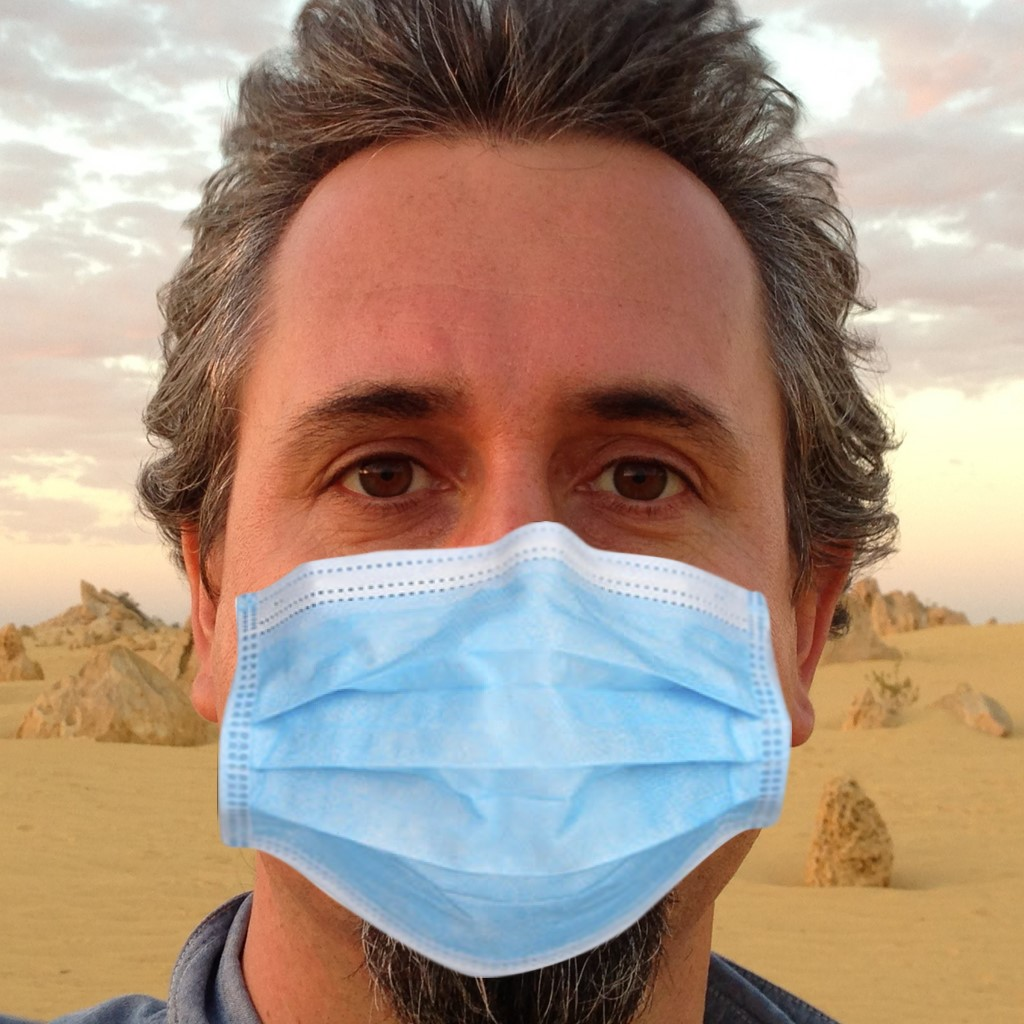con_mascara: (185, 62, 850, 986)
